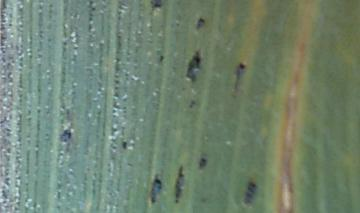tarspot: (182, 50, 203, 86), (172, 163, 185, 204), (148, 173, 164, 206), (241, 180, 258, 208), (59, 129, 72, 145), (234, 61, 249, 72), (149, 1, 165, 10), (197, 156, 207, 170), (195, 17, 204, 30), (188, 99, 197, 111), (121, 140, 129, 151), (158, 55, 164, 62)
